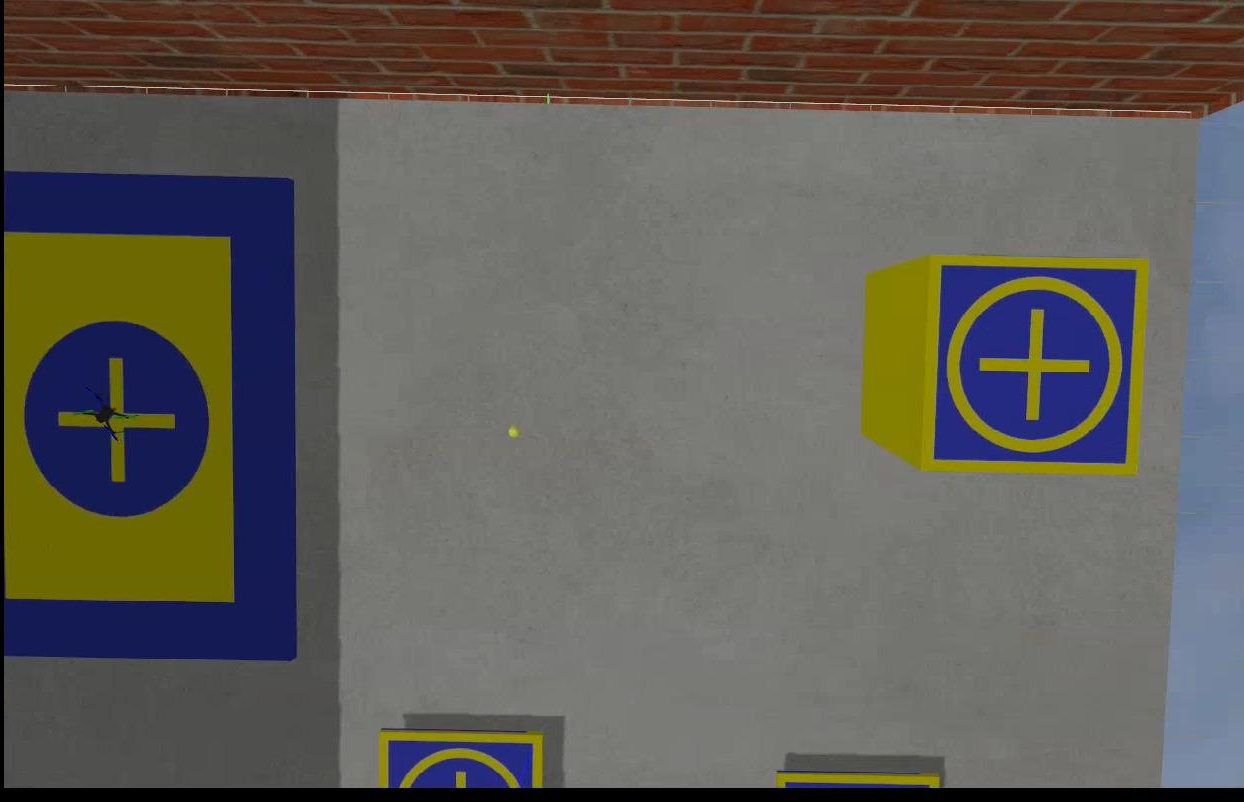large_base: (0, 173, 297, 665)
small_base: (913, 252, 1153, 478), (375, 729, 541, 792)
